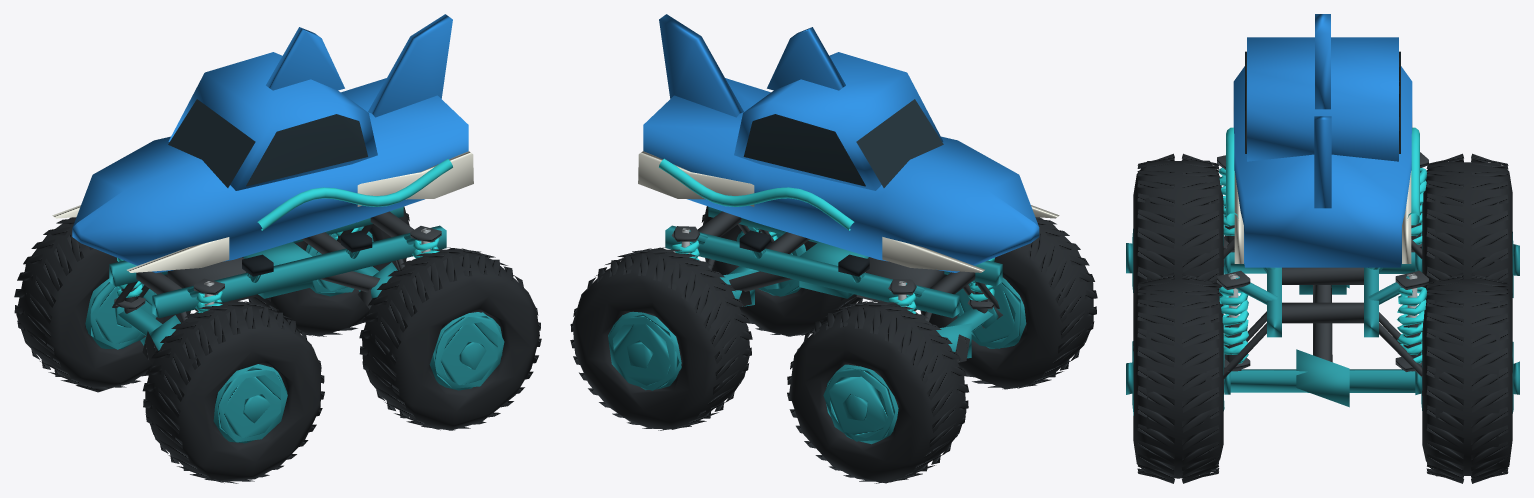
The model's file is Sharkbite_LOD2.fbx.
3 renders of one model, left to right at view 1: azimuth 30°, elevation 25°; view 2: azimuth 150°, elevation 25°; view 3: azimuth 270°, elevation 25°, orthographic. The views are drawn at different scales.
Visible parts, largest first — view 1: Sharkbite_LOD2_sprung_body_Geometry, Sharkbite_LOD2_FL_Spin_Geometry, Sharkbite_LOD2_RL_Spin_Geometry, Sharkbite_LOD2_FR_Spin_Geometry, Sharkbite_LOD2_RR_Spin_Geometry, Sharkbite_LOD2_FRONT_axle_Geometry, Sharkbite_LOD2_Root_Geometry, Sharkbite_LOD2_FRONT_shock_-1_Geometry, Sharkbite_LOD2_REAR_shock_-1_Geometry, Sharkbite_LOD2_REAR_axle_Geometry; view 2: Sharkbite_LOD2_sprung_body_Geometry, Sharkbite_LOD2_RR_Spin_Geometry, Sharkbite_LOD2_FR_Spin_Geometry, Sharkbite_LOD2_FL_Spin_Geometry, Sharkbite_LOD2_RL_Spin_Geometry, Sharkbite_LOD2_FRONT_axle_Geometry, Sharkbite_LOD2_Root_Geometry, Sharkbite_LOD2_REAR_shock_1_Geometry, Sharkbite_LOD2_FRONT_shock_1_Geometry, Sharkbite_LOD2_REAR_axle_Geometry; view 3: Sharkbite_LOD2_sprung_body_Geometry, Sharkbite_LOD2_RL_Spin_Geometry, Sharkbite_LOD2_RR_Spin_Geometry, Sharkbite_LOD2_FL_Spin_Geometry, Sharkbite_LOD2_FR_Spin_Geometry, Sharkbite_LOD2_REAR_axle_Geometry, Sharkbite_LOD2_Root_Geometry, Sharkbite_LOD2_REAR_shock_-1_Geometry, Sharkbite_LOD2_REAR_shock_1_Geometry, Sharkbite_LOD2_FRONT_axle_Geometry, Sharkbite_LOD2_FRONT_shock_1_Geometry, Sharkbite_LOD2_FRONT_shock_-1_Geometry.
Boxes of the visible parts, bbox=[...] form: Sharkbite_LOD2_sprung_body_Geometry: bbox=[52, 14, 473, 318]; Sharkbite_LOD2_FL_Spin_Geometry: bbox=[142, 300, 324, 483]; Sharkbite_LOD2_RL_Spin_Geometry: bbox=[359, 247, 541, 430]; Sharkbite_LOD2_FR_Spin_Geometry: bbox=[14, 217, 190, 392]; Sharkbite_LOD2_RR_Spin_Geometry: bbox=[242, 206, 409, 336]; Sharkbite_LOD2_FRONT_axle_Geometry: bbox=[118, 307, 180, 364]; Sharkbite_LOD2_Root_Geometry: bbox=[112, 224, 405, 329]; Sharkbite_LOD2_FRONT_shock_-1_Geometry: bbox=[193, 278, 224, 312]; Sharkbite_LOD2_REAR_shock_-1_Geometry: bbox=[410, 226, 441, 258]; Sharkbite_LOD2_REAR_axle_Geometry: bbox=[352, 262, 397, 309]; Sharkbite_LOD2_sprung_body_Geometry: bbox=[638, 14, 1059, 318]; Sharkbite_LOD2_RR_Spin_Geometry: bbox=[570, 247, 752, 430]; Sharkbite_LOD2_FR_Spin_Geometry: bbox=[787, 300, 968, 483]; Sharkbite_LOD2_FL_Spin_Geometry: bbox=[920, 217, 1097, 389]; Sharkbite_LOD2_RL_Spin_Geometry: bbox=[701, 206, 869, 336]; Sharkbite_LOD2_FRONT_axle_Geometry: bbox=[936, 307, 1002, 362]; Sharkbite_LOD2_Root_Geometry: bbox=[707, 224, 999, 324]; Sharkbite_LOD2_REAR_shock_1_Geometry: bbox=[671, 226, 699, 259]; Sharkbite_LOD2_FRONT_shock_1_Geometry: bbox=[888, 279, 916, 313]; Sharkbite_LOD2_REAR_axle_Geometry: bbox=[720, 266, 759, 307]; Sharkbite_LOD2_sprung_body_Geometry: bbox=[1226, 14, 1419, 337]; Sharkbite_LOD2_RL_Spin_Geometry: bbox=[1126, 272, 1230, 483]; Sharkbite_LOD2_RR_Spin_Geometry: bbox=[1415, 272, 1519, 483]; Sharkbite_LOD2_FL_Spin_Geometry: bbox=[1126, 153, 1230, 312]; Sharkbite_LOD2_FR_Spin_Geometry: bbox=[1415, 153, 1519, 309]; Sharkbite_LOD2_REAR_axle_Geometry: bbox=[1223, 349, 1422, 407]; Sharkbite_LOD2_Root_Geometry: bbox=[1223, 236, 1422, 378]; Sharkbite_LOD2_REAR_shock_-1_Geometry: bbox=[1217, 270, 1250, 371]; Sharkbite_LOD2_REAR_shock_1_Geometry: bbox=[1395, 270, 1428, 371]; Sharkbite_LOD2_FRONT_axle_Geometry: bbox=[1223, 252, 1421, 288]; Sharkbite_LOD2_FRONT_shock_1_Geometry: bbox=[1411, 152, 1428, 251]; Sharkbite_LOD2_FRONT_shock_-1_Geometry: bbox=[1217, 155, 1234, 252].
Bounding box in the file's own units: 534 × 481 × 414.
